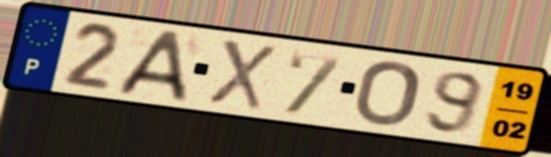2: (62, 21, 123, 93)
7: (283, 46, 346, 117)
9: (422, 69, 488, 135)
A: (113, 29, 191, 103)
O: (351, 59, 424, 128)
X: (204, 36, 279, 113)
